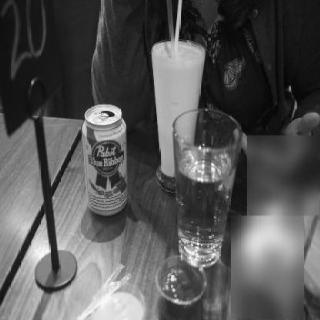alumunium_can: (82, 104, 128, 218)
objects: (173, 106, 241, 266), (151, 40, 206, 193)
